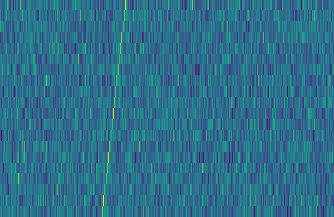signal: (96, 0, 130, 217)
